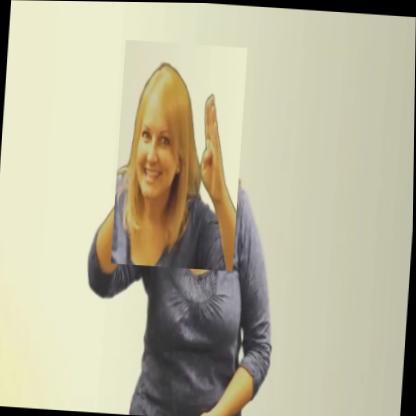Hello: (111, 39, 248, 270)
